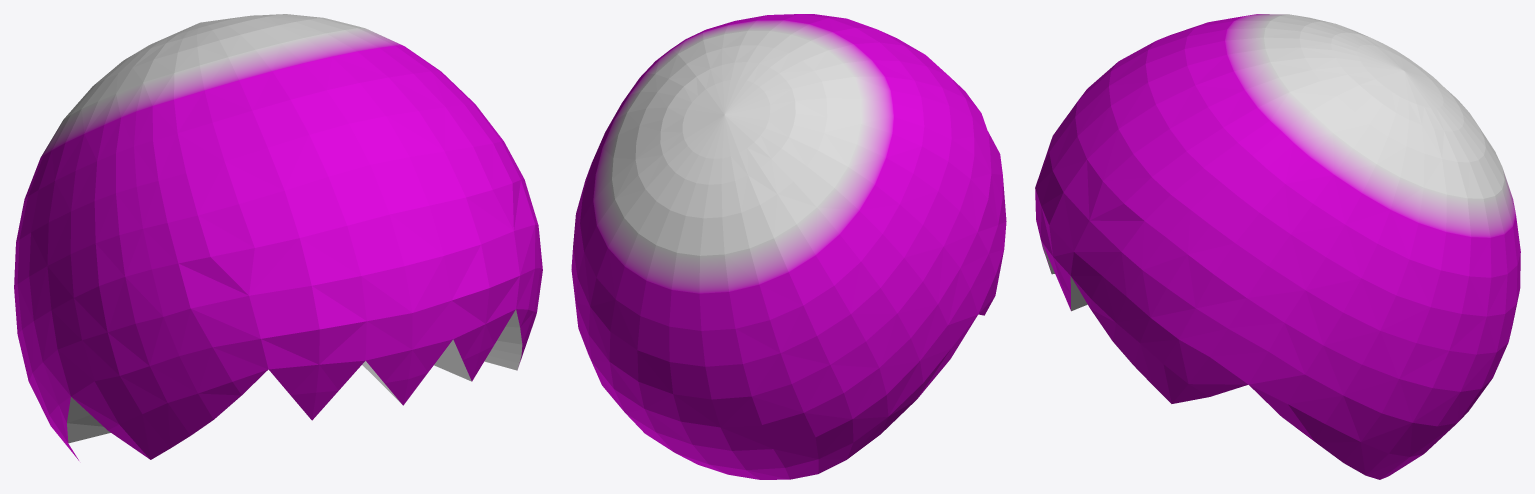
Rendered from hair_38.glb.
The picture shows the model from 3 angles, left to right: view 1: azimuth 30°, elevation 25°; view 2: azimuth 150°, elevation 25°; view 3: azimuth 270°, elevation 25°; orthographic projection. The views are drawn at different scales.
Parts seen in each view (by area): view 1: shape; view 2: shape; view 3: shape.
Part boxes in pixels (bbox=[...]): shape: bbox=[14, 14, 542, 460]; shape: bbox=[571, 14, 1006, 479]; shape: bbox=[1035, 14, 1520, 479].
Size of the model in its own units: 57.42 by 59.61 by 63.06.
